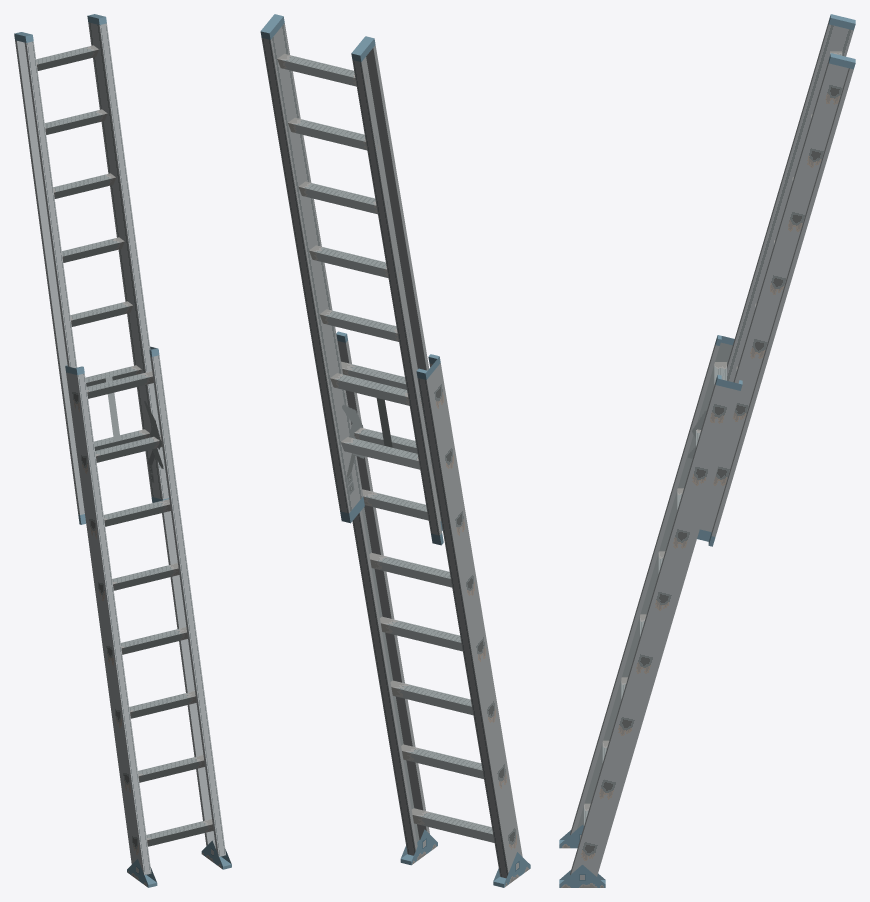
Rendered from 04db_Ladder.glb.
The picture shows the model from 3 angles, left to right: view 1: azimuth 30°, elevation 25°; view 2: azimuth 150°, elevation 25°; view 3: azimuth 270°, elevation 25°; orthographic projection. The views are drawn at different scales.
Parts seen in each view (by area): view 1: part_0; view 2: part_0; view 3: part_0.
Part boxes in pixels (box(x1,y1,x2,y2)): part_0: box(14, 14, 231, 887); part_0: box(260, 14, 530, 887); part_0: box(559, 14, 855, 887).
Bounding box in the file's own units: 0.285 × 2.48 × 0.8028.
Materials: 1 (1 with a texture image).
